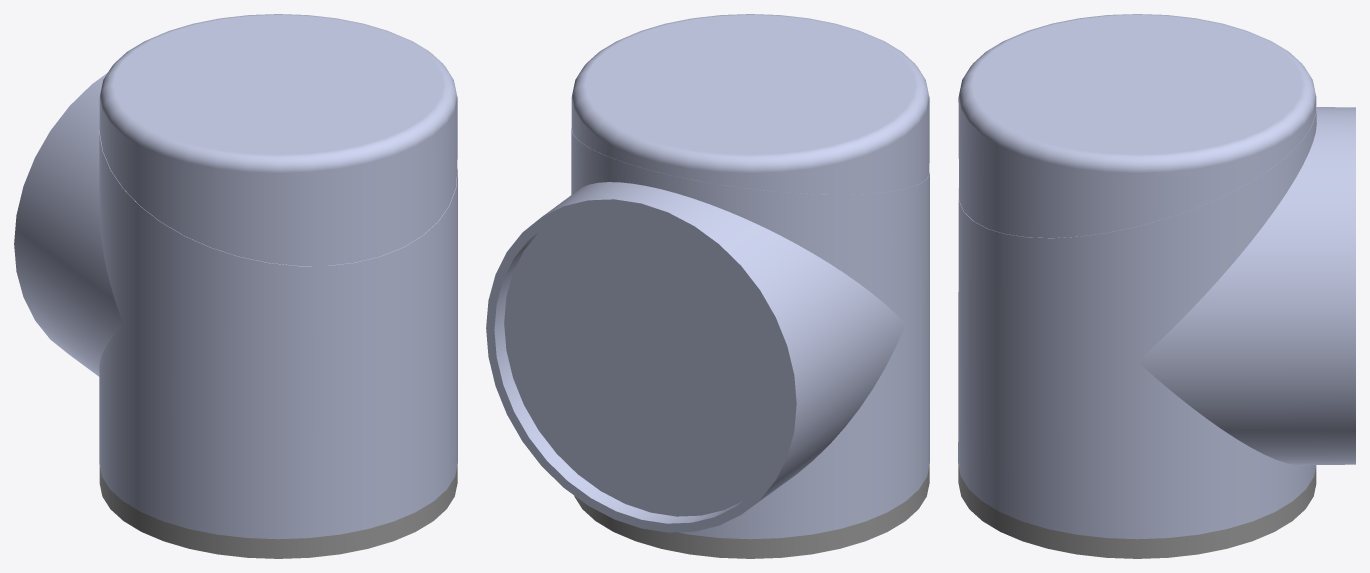
3 renders of one model, left to right at view 1: azimuth 30°, elevation 25°; view 2: azimuth 150°, elevation 25°; view 3: azimuth 270°, elevation 25°, orthographic.
Visible parts, largest first — view 1: FBXASC195FBXASC135FBXASC195FBXASC144FBXASC194FBXASC179FBXASC; view 2: FBXASC195FBXASC135FBXASC195FBXASC144FBXASC194FBXASC179FBXASC; view 3: FBXASC195FBXASC135FBXASC195FBXASC144FBXASC194FBXASC179FBXASC.
Boxes of the visible parts, <box> form: FBXASC195FBXASC135FBXASC195FBXASC144FBXASC194FBXASC179FBXASC: <box>14,14,457,558</box>; FBXASC195FBXASC135FBXASC195FBXASC144FBXASC194FBXASC179FBXASC: <box>486,14,929,558</box>; FBXASC195FBXASC135FBXASC195FBXASC144FBXASC194FBXASC179FBXASC: <box>958,14,1355,558</box>.
Bounding box in the file's own units: 0.204 × 0.2262 × 0.25.
